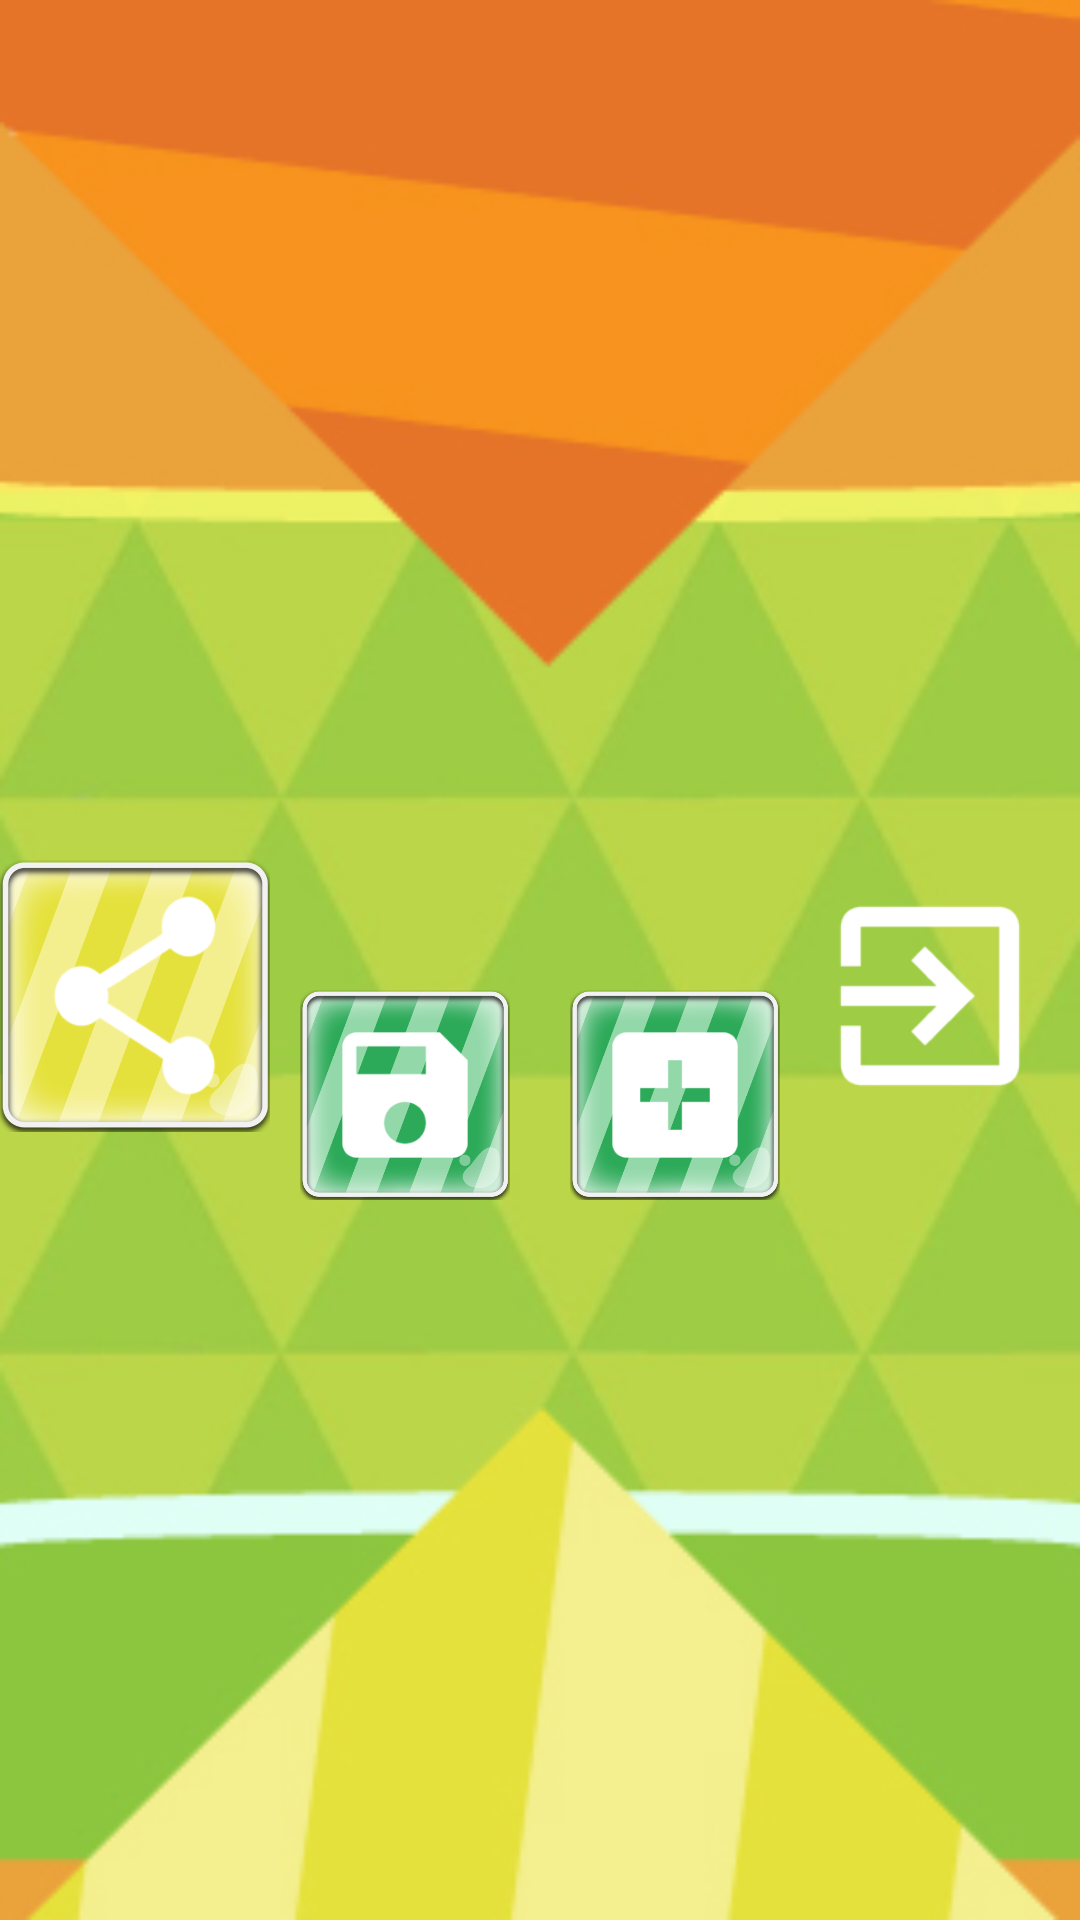

Named icons in this screenshot (1080 x 1920) and their centers, [x,y]:
exit to app: [930,996]
